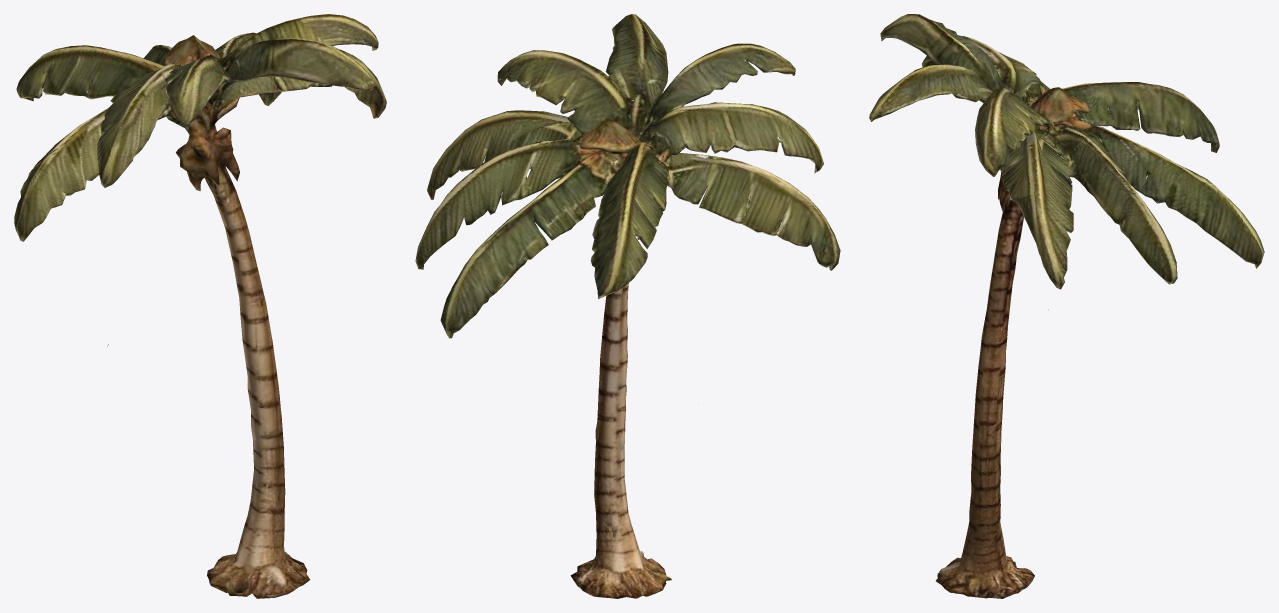
The model's file is gourd-prop-palm-b.glb.
3 views of the same model, side by side, from view 1: azimuth 30°, elevation 25°; view 2: azimuth 150°, elevation 25°; view 3: azimuth 270°, elevation 25° (orthographic). The views are drawn at different scales.
Visible parts, largest first — view 1: low; view 2: low; view 3: low.
Part boxes in pixels (x1,y1,x2,y2): low: (14, 14, 386, 598); low: (415, 14, 840, 598); low: (869, 14, 1264, 598).
Bounding box in the file's own units: 0.3399 × 0.4598 × 0.3155.
Materials: 1 (1 with a texture image).
